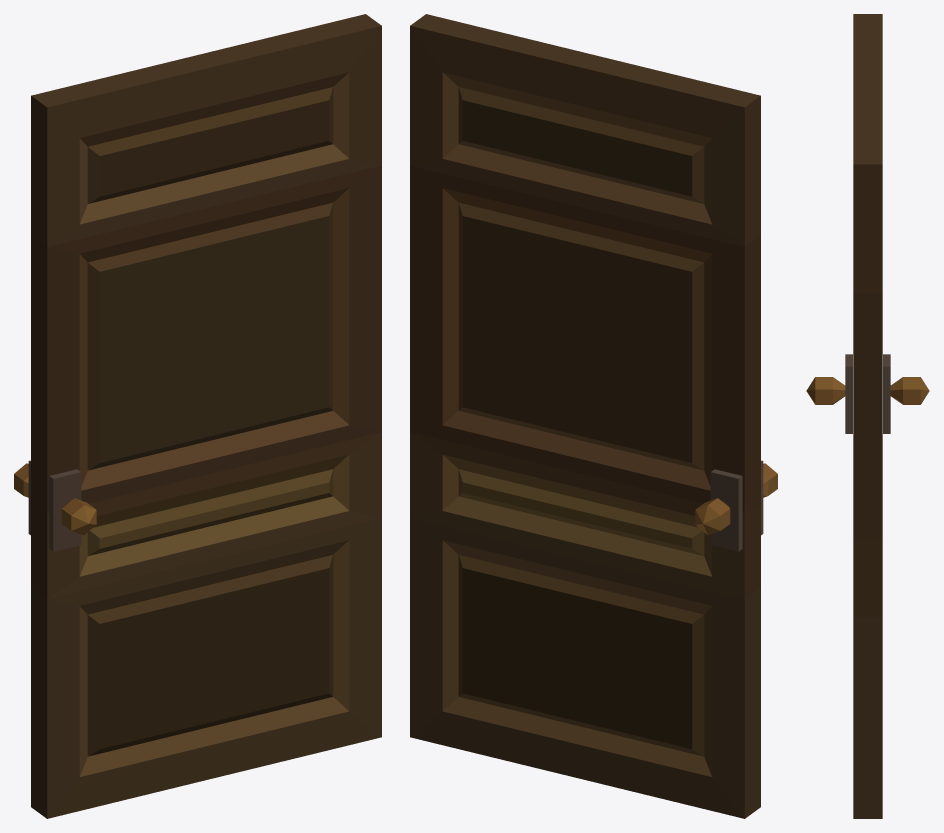
The model's file is Prop_DoorBoxA.fbx.
3 renders of one model, left to right at view 1: azimuth 30°, elevation 25°; view 2: azimuth 150°, elevation 25°; view 3: azimuth 270°, elevation 25°, orthographic. The views are drawn at different scales.
Visible parts, largest first — view 1: Prop_DoorBoxA; view 2: Prop_DoorBoxA; view 3: Prop_DoorBoxA.
Part boxes in pixels (bbox=[...]): Prop_DoorBoxA: bbox=[14, 14, 381, 818]; Prop_DoorBoxA: bbox=[410, 14, 777, 818]; Prop_DoorBoxA: bbox=[806, 14, 929, 818].
Bounding box in the file's own units: 120 × 244 × 41.62.
